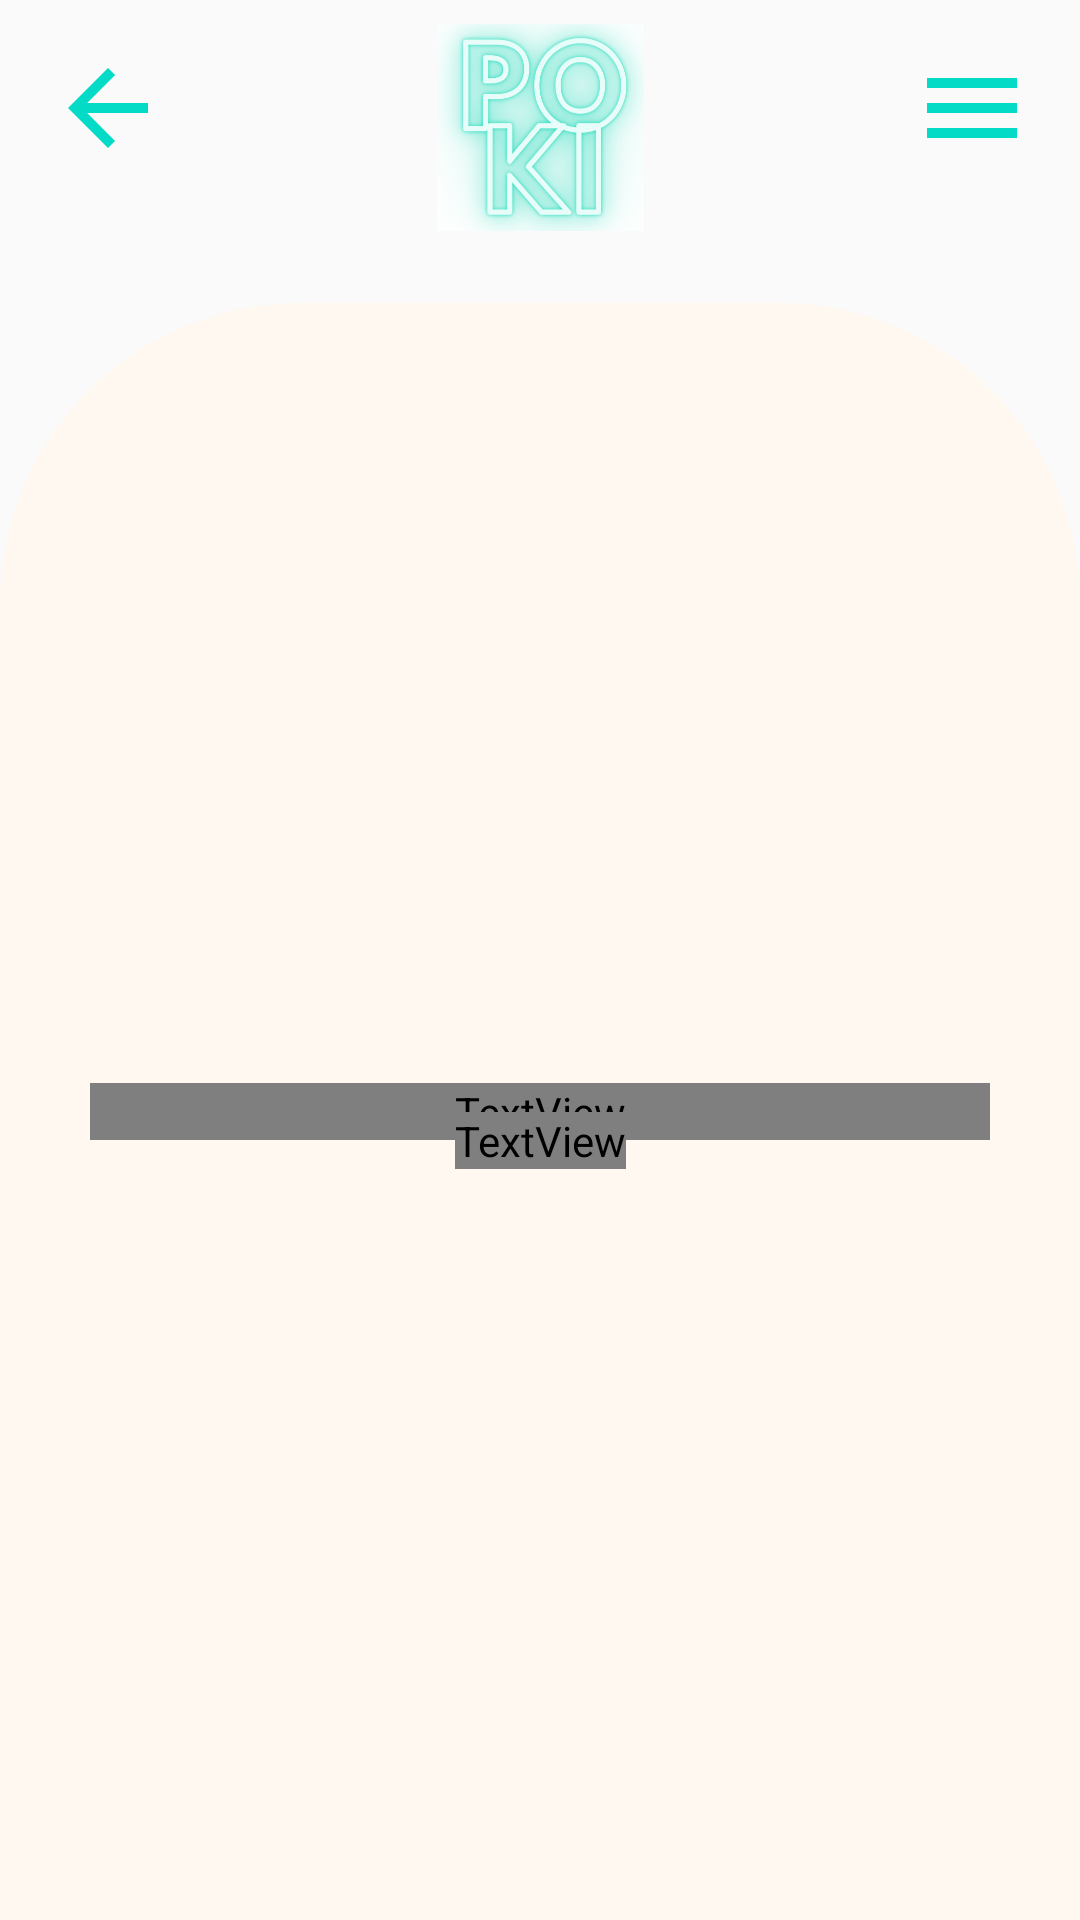

Locate icon controls on the screen. Image size 1080 x 1920, boxes as (x1, y1, x2, y2).
arrow back: (68, 68, 148, 148)
menu: (927, 78, 1017, 138)
